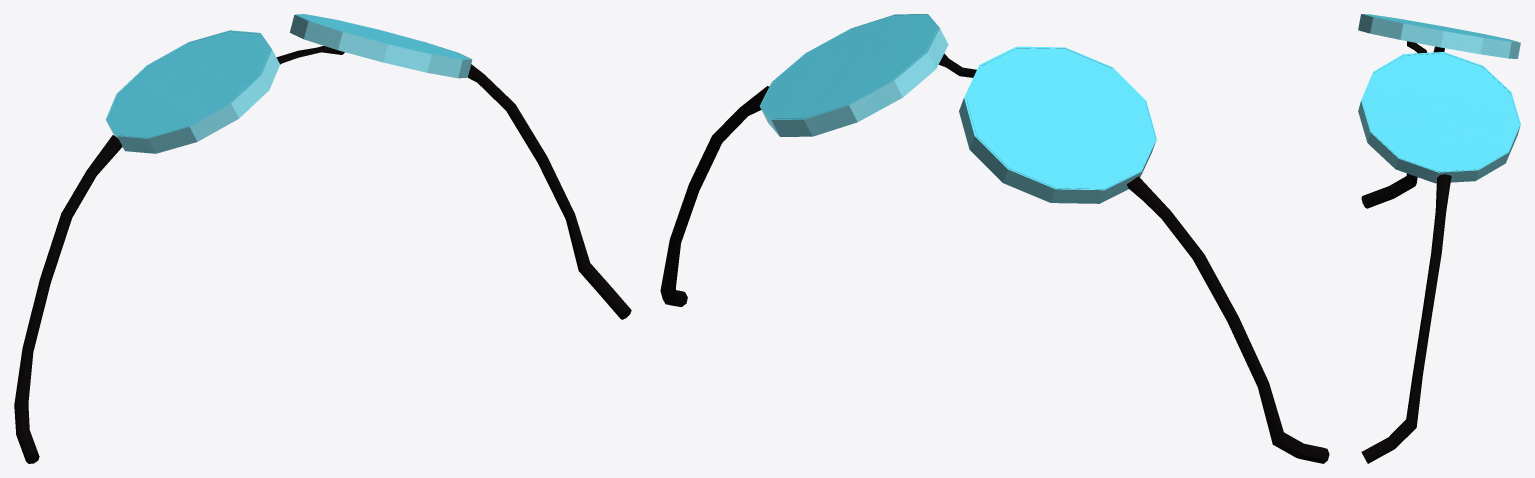
Rendered from glasses.dae.
3 renders of one model, left to right at view 1: azimuth 30°, elevation 25°; view 2: azimuth 150°, elevation 25°; view 3: azimuth 270°, elevation 25°, orthographic. The views are drawn at different scales.
Parts seen in each view (by area): view 1: glasses_r_lens, glasses_l_lens, glasses_r_leg, glasses_l_leg; view 2: glasses_r_lens, glasses_l_lens, glasses_r_leg, glasses_l_leg; view 3: glasses_l_lens, glasses_l_leg, glasses_r_lens, glasses_r_leg, glasses_r_rim.
Boxes of the visible parts, x1=… form: glasses_r_lens: x1=106, y1=30, x2=279, y2=153; glasses_l_lens: x1=290, y1=14, x2=472, y2=78; glasses_r_leg: x1=14, y1=135, x2=122, y2=463; glasses_l_leg: x1=468, y1=64, x2=631, y2=319; glasses_r_lens: x1=959, y1=46, x2=1156, y2=203; glasses_l_lens: x1=759, y1=14, x2=948, y2=136; glasses_r_leg: x1=1127, y1=176, x2=1329, y2=463; glasses_l_leg: x1=660, y1=86, x2=769, y2=306; glasses_l_lens: x1=1358, y1=52, x2=1520, y2=183; glasses_l_leg: x1=1361, y1=174, x2=1451, y2=463; glasses_r_lens: x1=1358, y1=14, x2=1520, y2=58; glasses_r_leg: x1=1361, y1=46, x2=1444, y2=208; glasses_r_rim: x1=1362, y1=14, x2=1518, y2=42.
Bounding box in the file's own units: 89.91 × 47.74 × 23.75.
3 materials, 2 textured.
